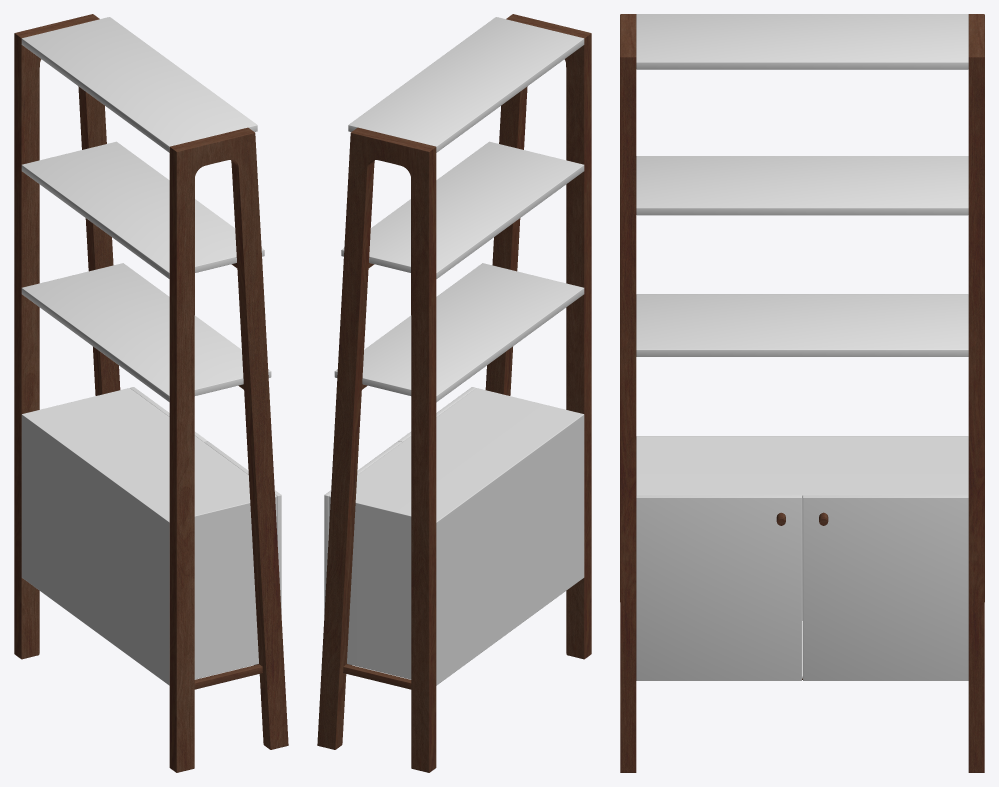
Rendered from Library.gltf.
3 renders of one model, left to right at view 1: azimuth 30°, elevation 25°; view 2: azimuth 150°, elevation 25°; view 3: azimuth 270°, elevation 25°, orthographic. The views are drawn at different scales.
Visible parts, largest first — view 1: Cube.018, Cube.002, Cube.001, Raf01, Raf01.002, Raf01.001, L2, D1; view 2: Cube.018, Cube.001, Cube.002, Raf01, Raf01.002, Raf01.001, L2.001, D1.001; view 3: D1, D1.001, Raf01.002, Cube.018, Raf01.001, Raf01, Cube.002, Cube.001.
Boxes of the visible parts, x1=… form: Cube.018: x1=21, y1=388, x2=277, y2=685; Cube.002: x1=169, y1=127, x2=288, y2=772; Cube.001: x1=14, y1=14, x2=120, y2=659; Raf01: x1=21, y1=17, x2=257, y2=152; Raf01.002: x1=21, y1=263, x2=271, y2=402; Raf01.001: x1=21, y1=141, x2=264, y2=278; L2: x1=194, y1=664, x2=262, y2=689; D1: x1=204, y1=441, x2=281, y2=614; Cube.018: x1=328, y1=388, x2=584, y2=685; Cube.001: x1=317, y1=127, x2=436, y2=772; Cube.002: x1=485, y1=14, x2=591, y2=659; Raf01: x1=348, y1=17, x2=584, y2=152; Raf01.002: x1=334, y1=263, x2=584, y2=402; Raf01.001: x1=341, y1=141, x2=584, y2=278; L2.001: x1=343, y1=664, x2=411, y2=689; D1.001: x1=324, y1=441, x2=401, y2=614; D1: x1=636, y1=495, x2=801, y2=680; D1.001: x1=803, y1=495, x2=968, y2=680; Raf01.002: x1=636, y1=294, x2=968, y2=356; Cube.018: x1=636, y1=436, x2=968, y2=678; Raf01.001: x1=636, y1=156, x2=968, y2=215; Raf01: x1=636, y1=14, x2=968, y2=69; Cube.002: x1=620, y1=14, x2=636, y2=772; Cube.001: x1=968, y1=14, x2=984, y2=772.
Bounding box in the file's own units: 0.394 × 1.9 × 0.9.
2 materials, 1 textured.
